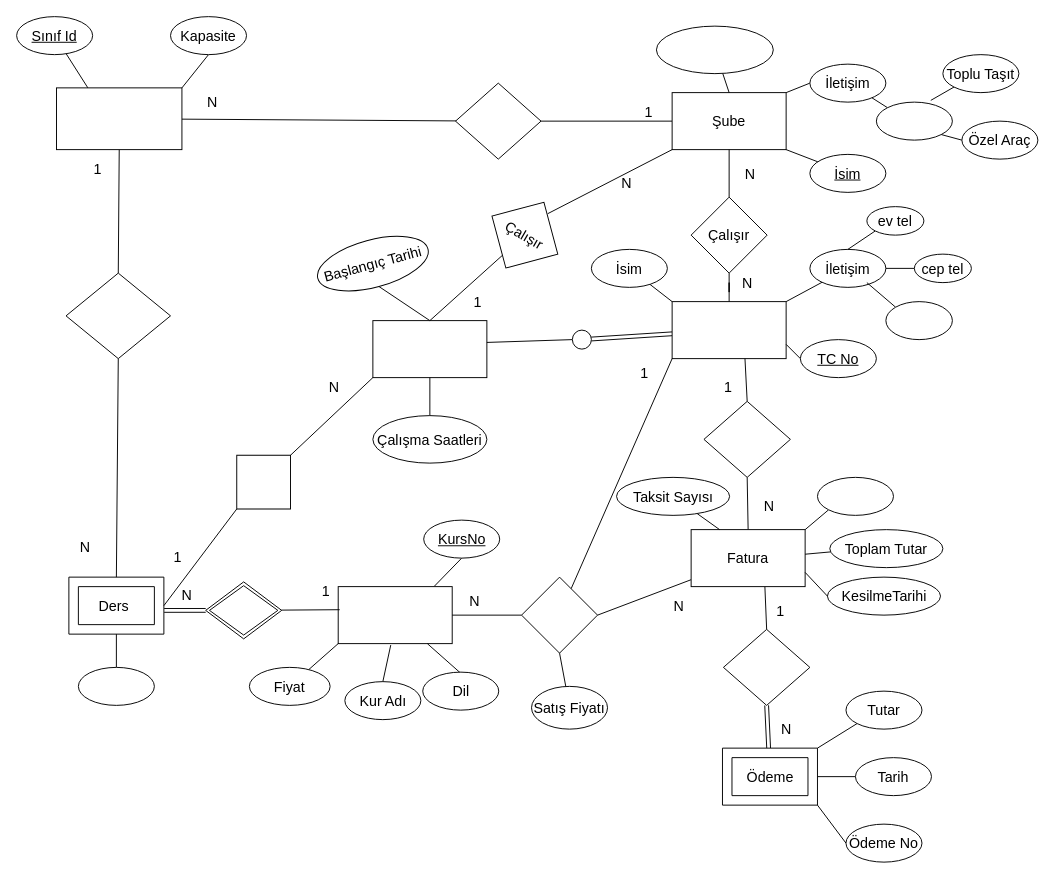
The diagram is 1055 pixels wide and 879 high, and some of its shapes have lost their labels. The box of each missing label's shape, as (x1, y1, x2, y2) in pixels:
adres: (885, 301, 952, 340)
Aittir: (722, 628, 810, 705)
Bulunur: (455, 82, 541, 159)
Fatura No: (817, 476, 893, 515)
Fiziksel Sınıf: (56, 87, 182, 150)
Gerçekleşir: (65, 272, 171, 359)
isim: (77, 666, 154, 705)
Keser: (703, 400, 790, 477)
Kişi: (671, 301, 786, 359)
Kurs (Grup): (337, 586, 452, 644)
Sales: (521, 576, 598, 653)
Sosyal Olanaklar: (656, 25, 773, 74)
Ulaşım: (875, 101, 952, 140)
Verilir: (209, 427, 318, 536)
Öğretmen: (372, 320, 487, 378)
